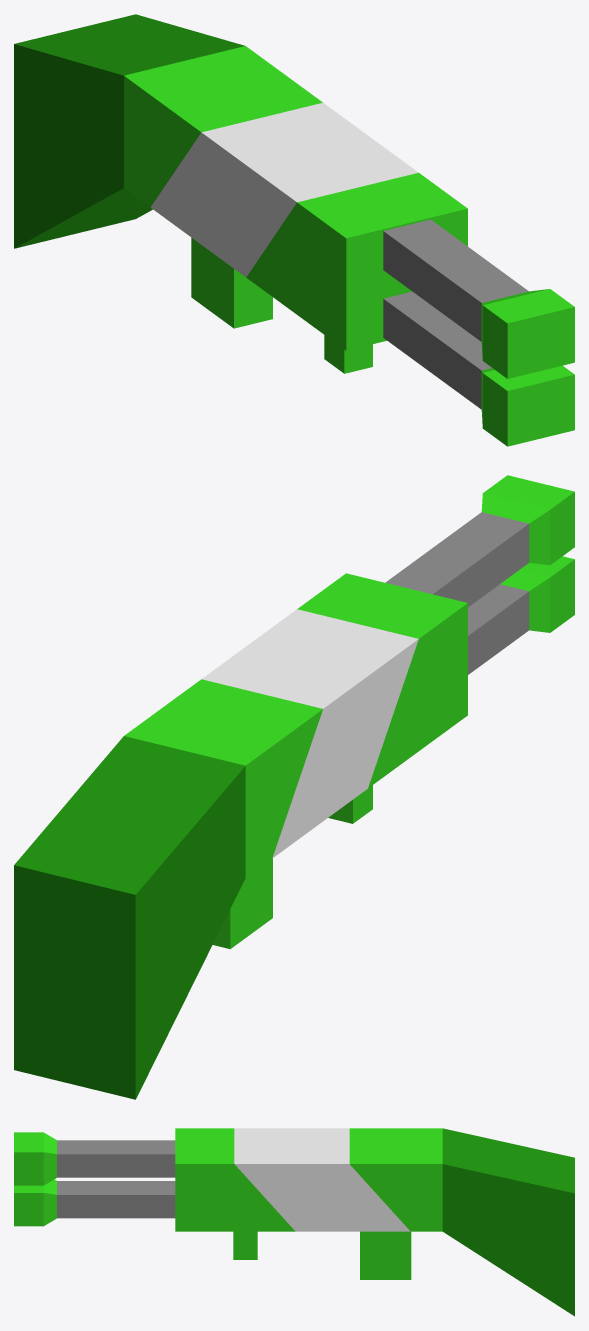
The model's file is uzi.glb.
3 renders of one model, top to bottom at view 1: azimuth 30°, elevation 25°; view 2: azimuth 150°, elevation 25°; view 3: azimuth 270°, elevation 25°, orthographic. The views are drawn at different scales.
Parts seen in each view (by area): view 1: mesh; view 2: mesh; view 3: mesh.
Part boxes in pixels (x1,y1,x2,y2): mesh: (14,14,574,446); mesh: (14,475,574,1099); mesh: (14,1128,574,1316).
Size of the model in its own units: 0.2 by 0.4083 by 1.33.
Materials: 1 (1 with a texture image).
